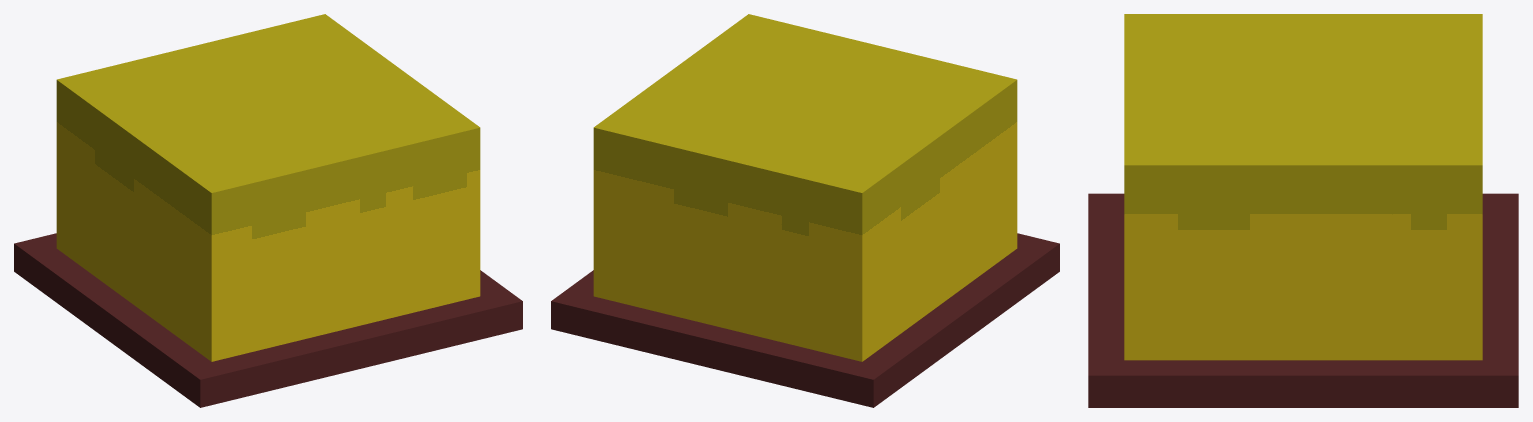
The model's file is Farm.fbx.
3 views of the same model, side by side, from view 1: azimuth 30°, elevation 25°; view 2: azimuth 150°, elevation 25°; view 3: azimuth 270°, elevation 25° (orthographic). The views are drawn at different scales.
Parts seen in each view (by area): view 1: cube_1, cube; view 2: cube_1, cube; view 3: cube_1, cube.
Part boxes in pixels (x1,y1,x2,y2): cube_1: (56,14,480,361); cube: (14,233,522,407); cube_1: (593,14,1017,361); cube: (551,233,1059,407); cube_1: (1124,14,1482,360); cube: (1088,193,1518,407).
Size of the model in its own units: 75 by 43.75 by 75.
1 material, 1 textured.
